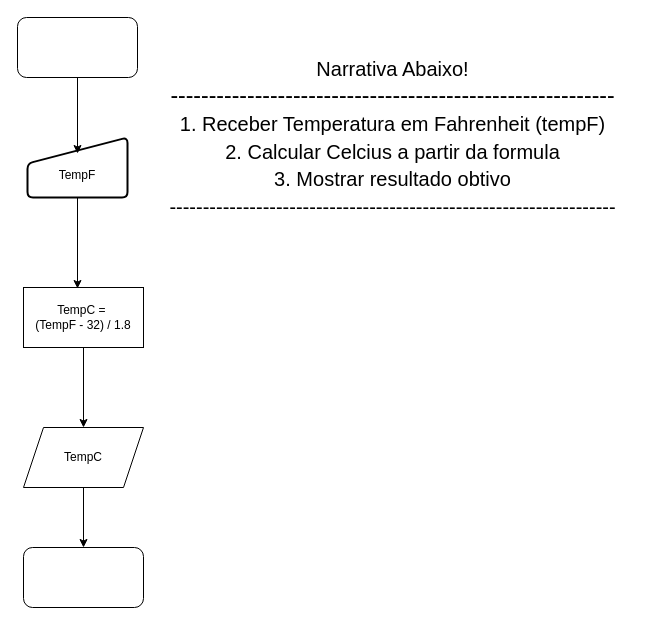
The diagram is 645 pixels wide and 625 high, and some of its shapes have lost their labels. The shapes that lost their labels are listed below. From the top down, each one's centre as x and y in pixels, then its label:
the point at 77,47: Inicio
the point at 83,577: Fim
